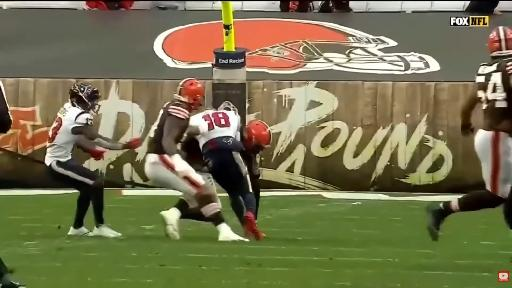Helmet: (175, 78, 205, 110), (70, 83, 100, 114), (487, 26, 512, 56), (246, 120, 271, 147), (218, 101, 238, 114)
Jersey: (45, 103, 92, 165), (475, 57, 511, 126), (148, 101, 190, 154), (191, 110, 241, 149), (181, 138, 205, 170)
Player: (427, 27, 511, 240), (145, 79, 247, 241), (45, 84, 140, 237), (194, 106, 264, 240), (241, 120, 271, 221), (241, 120, 271, 218), (180, 137, 220, 203)
